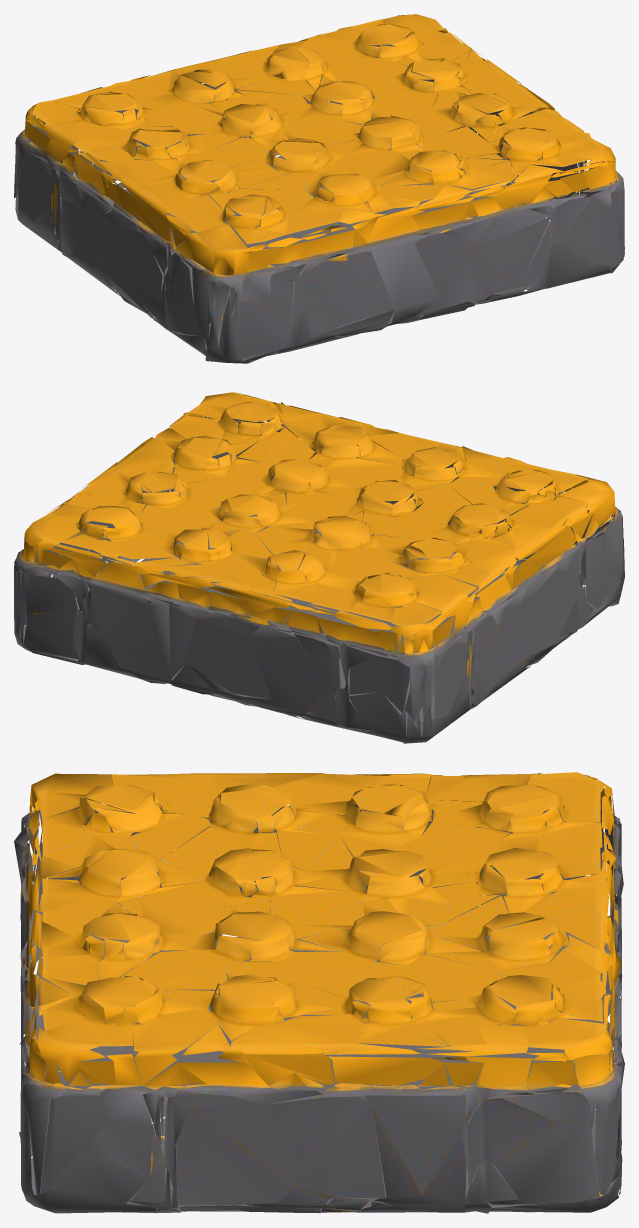
File: tactile.glb
The picture shows the model from 3 angles, top to bottom: view 1: azimuth 30°, elevation 25°; view 2: azimuth 150°, elevation 25°; view 3: azimuth 270°, elevation 25°; orthographic projection. The views are drawn at different scales.
Visible parts, largest first — view 1: Mesh_0; view 2: Mesh_0; view 3: Mesh_0.
Boxes of the visible parts, box(x1,y1,x2,y2) form: Mesh_0: box(14, 14, 624, 363); Mesh_0: box(14, 392, 624, 743); Mesh_0: box(14, 772, 624, 1213).
Bounding box in the file's own units: 1.92 × 0.5698 × 1.7.
1 material, 1 textured.
